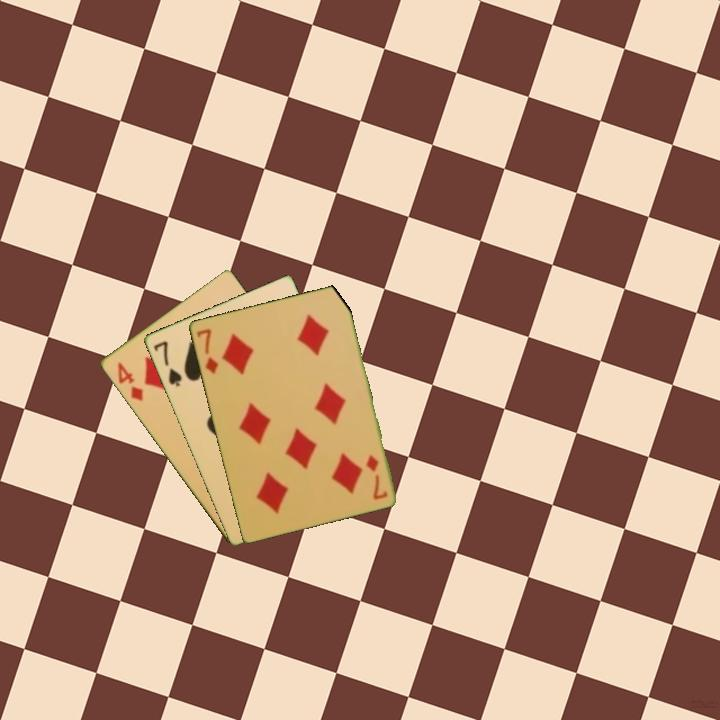4d: (113, 358, 146, 404)
7d: (193, 325, 221, 377), (362, 451, 390, 502)
7s: (150, 337, 184, 389)
